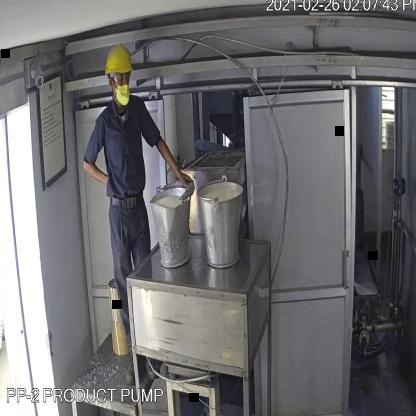helmet: (99, 42, 142, 81)
